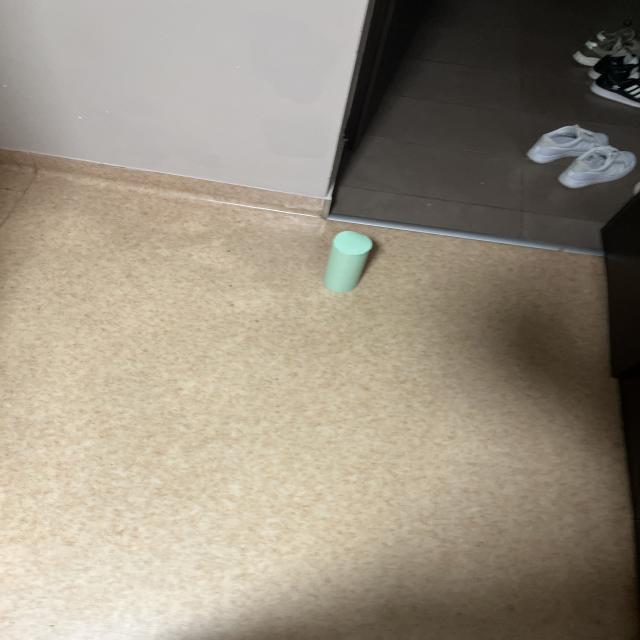meta: (324, 231, 372, 292)
